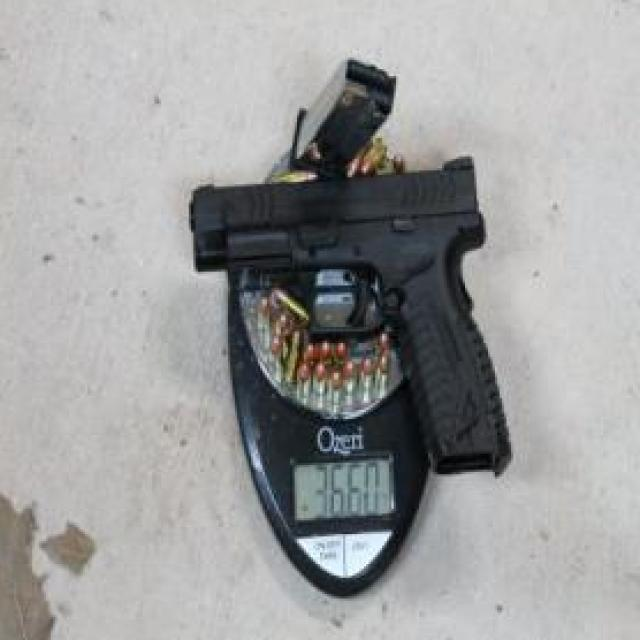pistol: (189, 156, 511, 482)
